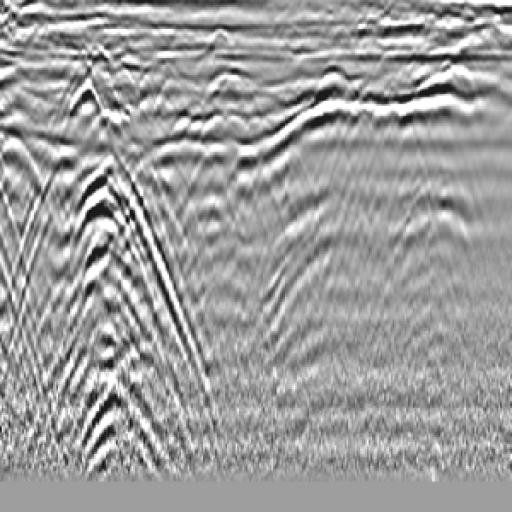metalic: (196, 130, 315, 305)
